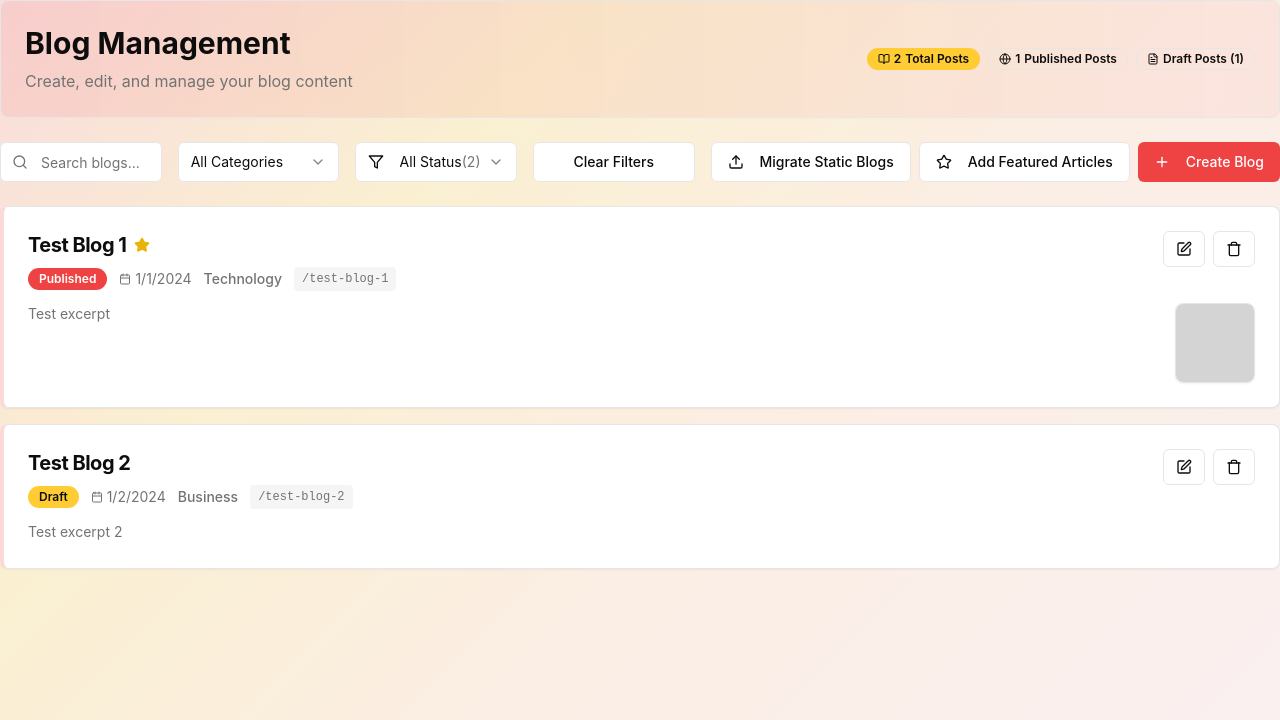
BlogManager Component › opens create blog form when Create Blog button is clicked
Click the button "Create Blog" at (1209, 162), box [1138,142,1279,182]
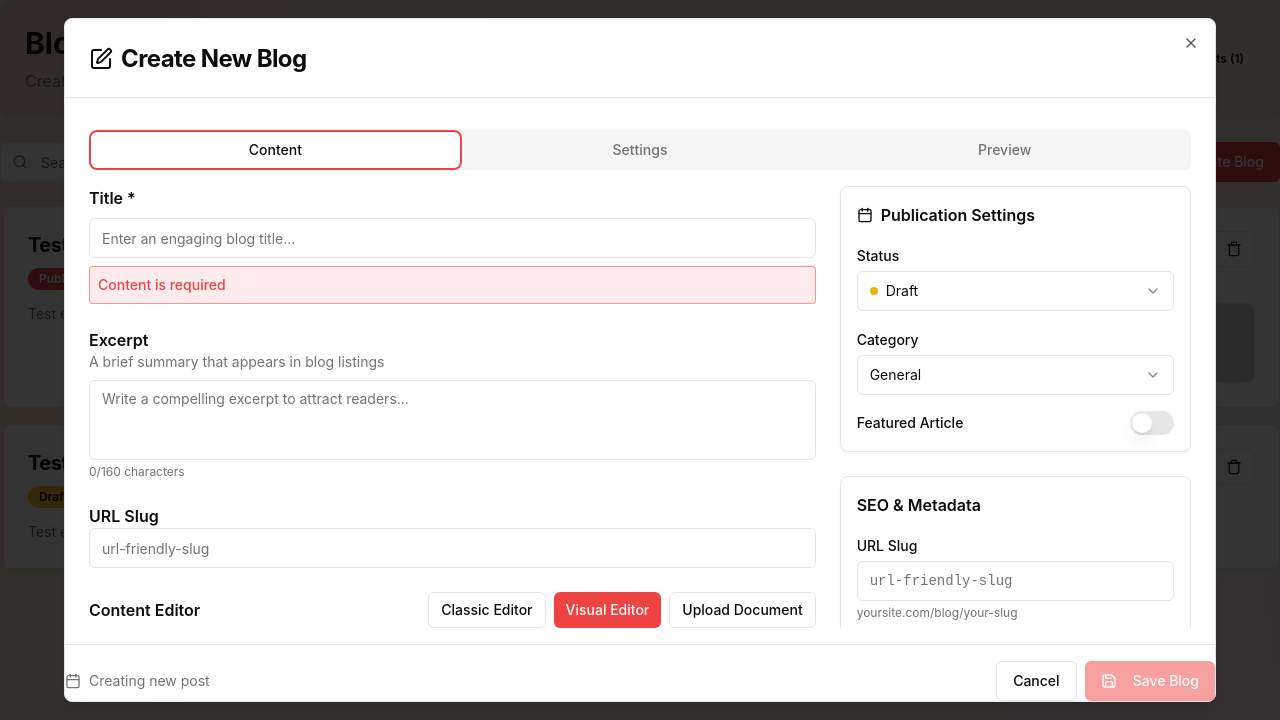
Expected: the heading "Create New Blog" is shown, [89,44,307,73]
Expected: the field labelled "Title" is shown, [89,218,816,258]
Expected: the field labelled "slug" is shown, [857,561,1174,601]
